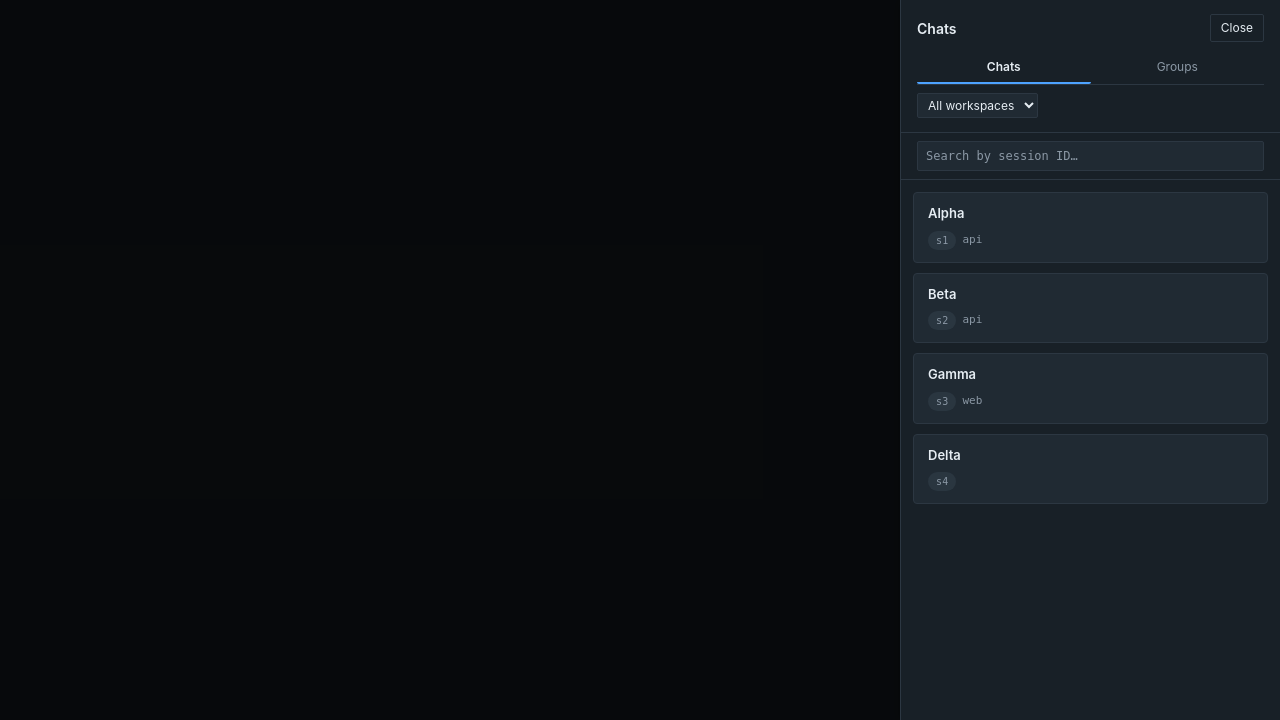
Test: <ChatsDrawer> › workspace filter dropdown › shows a no-match message when the selected workspace has no chats
The image size is (1280, 720).
Step 1. Select "empty" in the dropdown named "workspace" → (978, 106), box [917,93,1038,118]
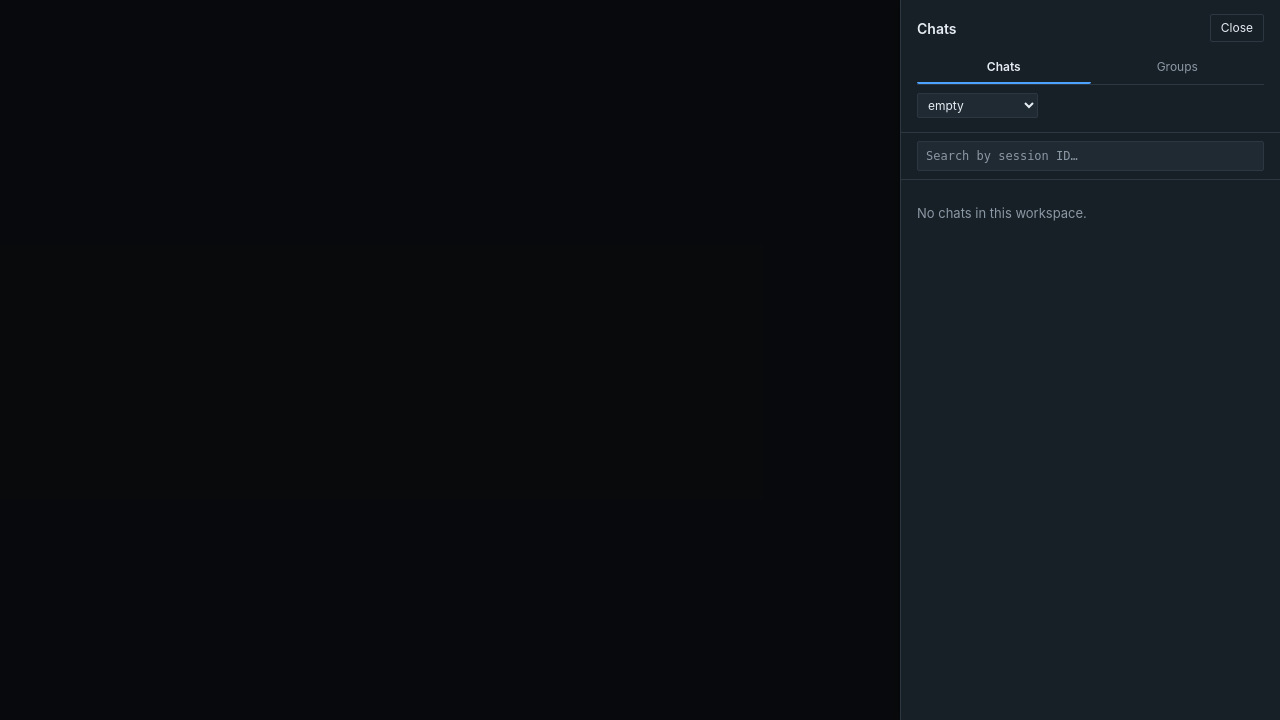
Now the text "Alpha" is gone
Now the text "No chats in this workspace." is shown, box [917,205,1087,221]
